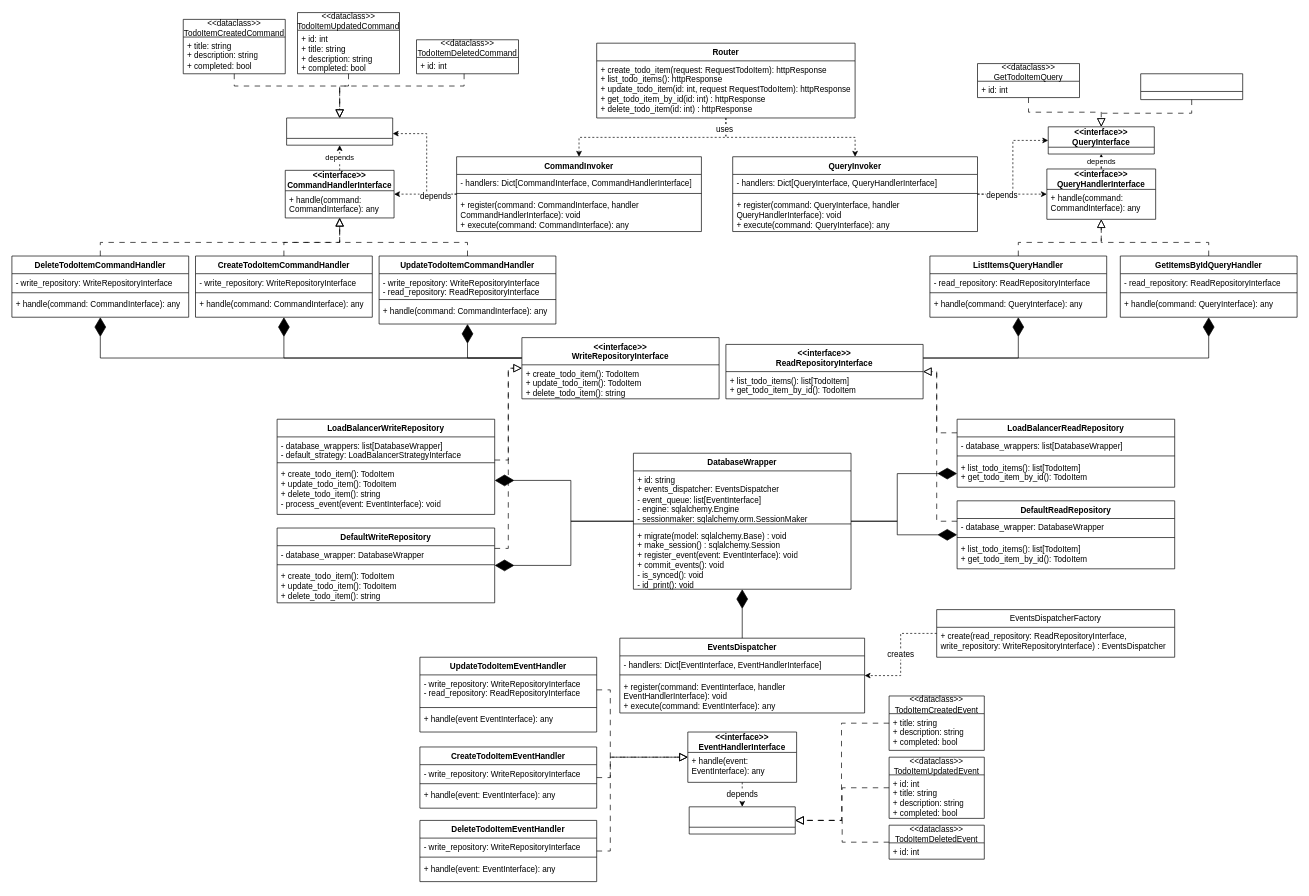
This 1309x896 diagram has some shape labels left out. Each missing label, with the centre of its shape:
"<<dataclass>> ListTodoItemsQuery" belongs at point 1191,86.
"<<interface>> CommandInterface" belongs at point 339,131.
"<<interface>> EventInterface" belongs at point 741,820.
